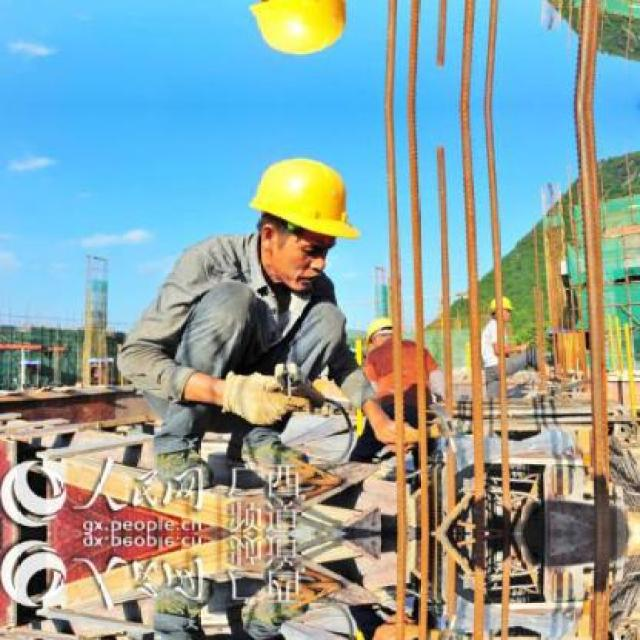helmet: (240, 140, 363, 296), (240, 0, 364, 72), (359, 314, 401, 366), (489, 290, 514, 319)
